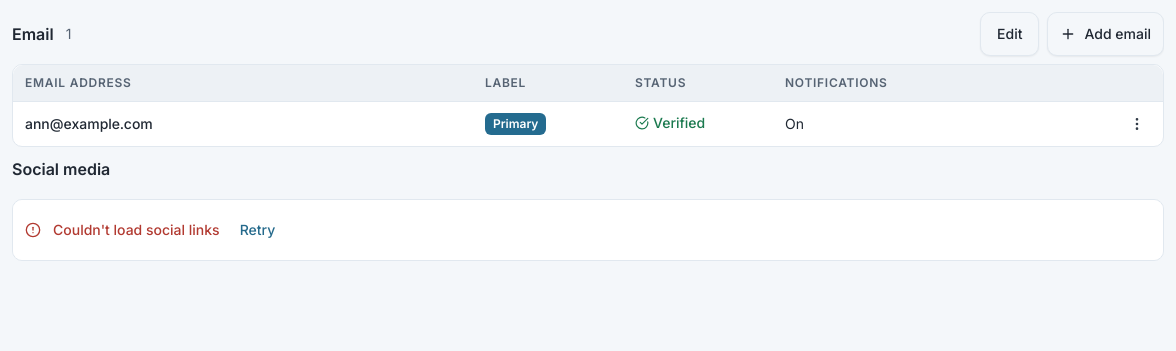
it: SocialSection: load error › a failed read shows "Couldn't load social links" + Retry; Retry revalidates only the Social Media key; Email is unaffected
The image size is (1176, 351).
Expected: the table "Email" is shown, top-left (13, 65), bottom-right (1163, 146)
Click the button "Retry" at (258, 230), box top-left (232, 208), bottom-right (283, 252)
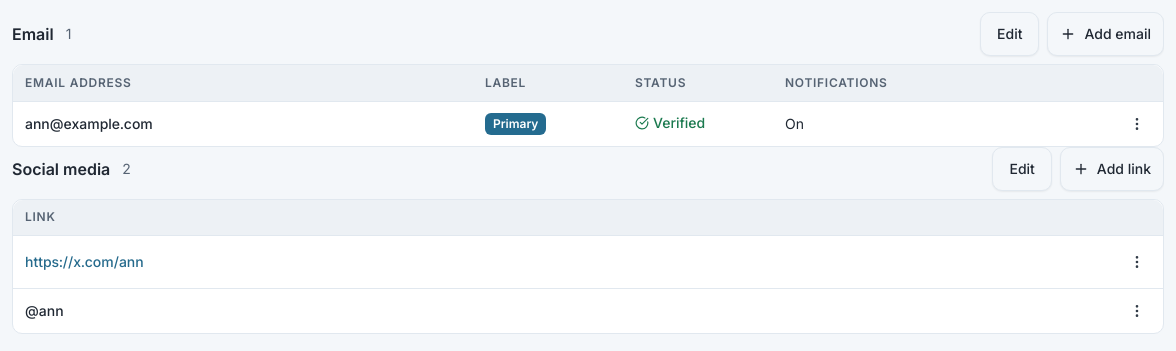
Expected: the table named "Social media" is shown, top-left (13, 200), bottom-right (1163, 333)
